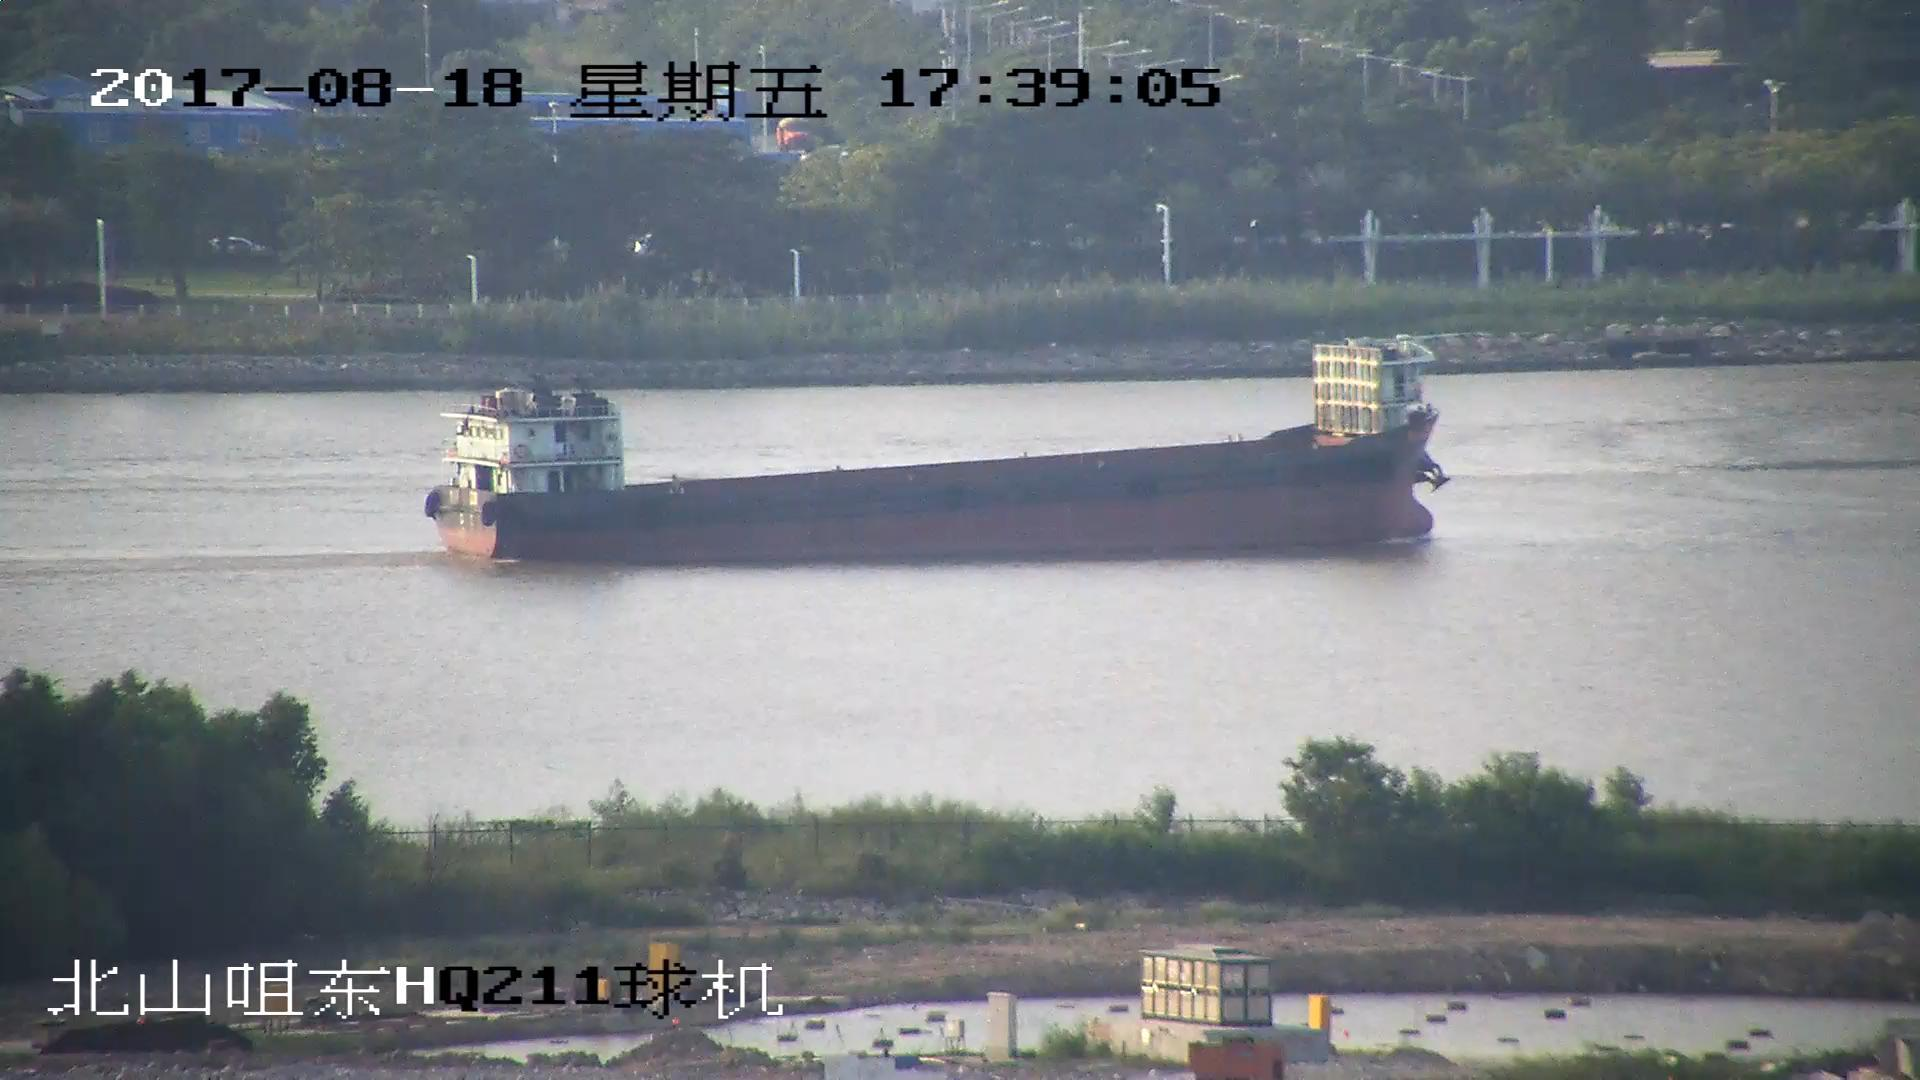Ship: (436, 335, 1447, 564)
